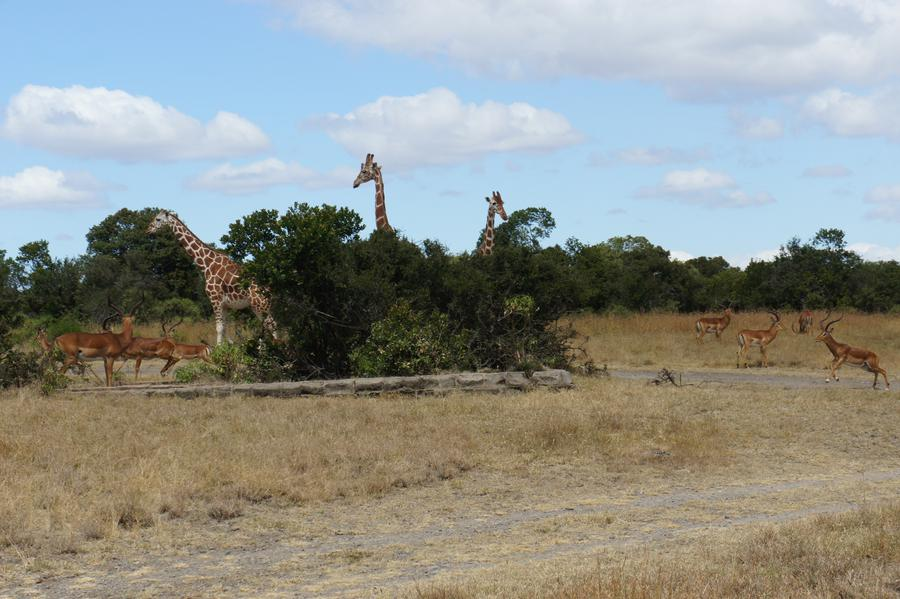giraffe: (142, 209, 279, 337), (352, 152, 399, 232), (471, 188, 515, 258)
